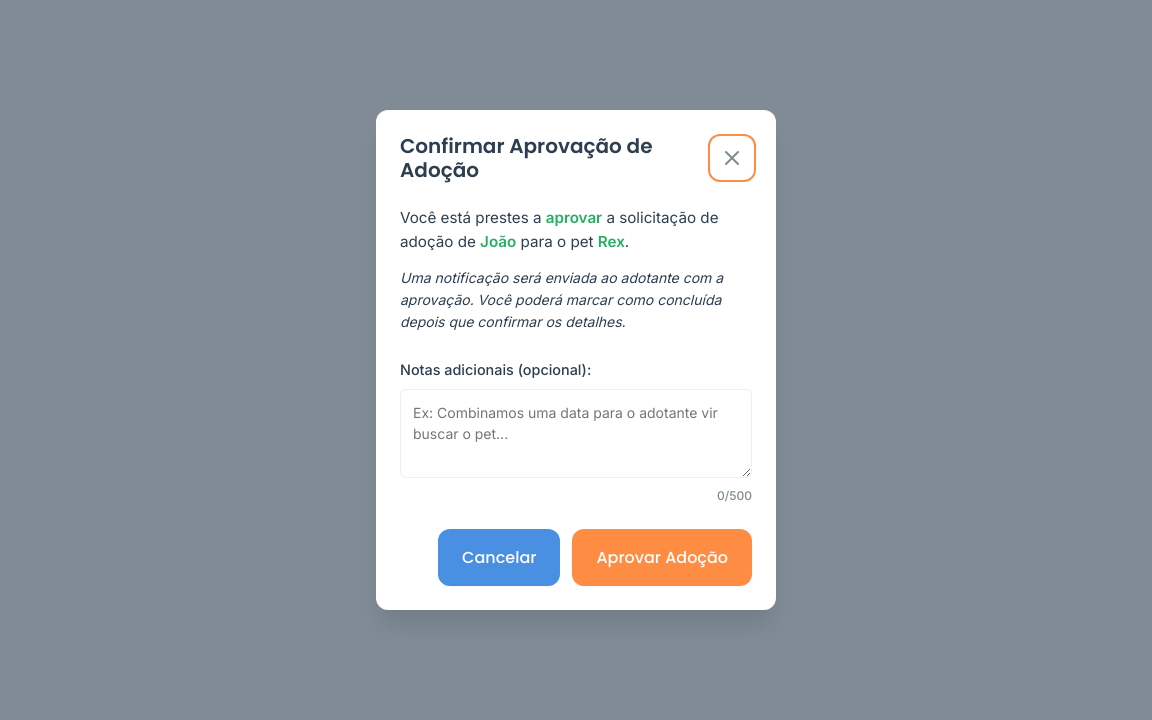
Test case: ApprovalModal Component › Textarea Character Limit › should update character count as user types
Type "Hello World" into the text box with placeholder "Ex: Combinamos uma data para o adotante vir buscar o pet...".
click(576, 433); type("Hello World")  # box [400,389,752,478]
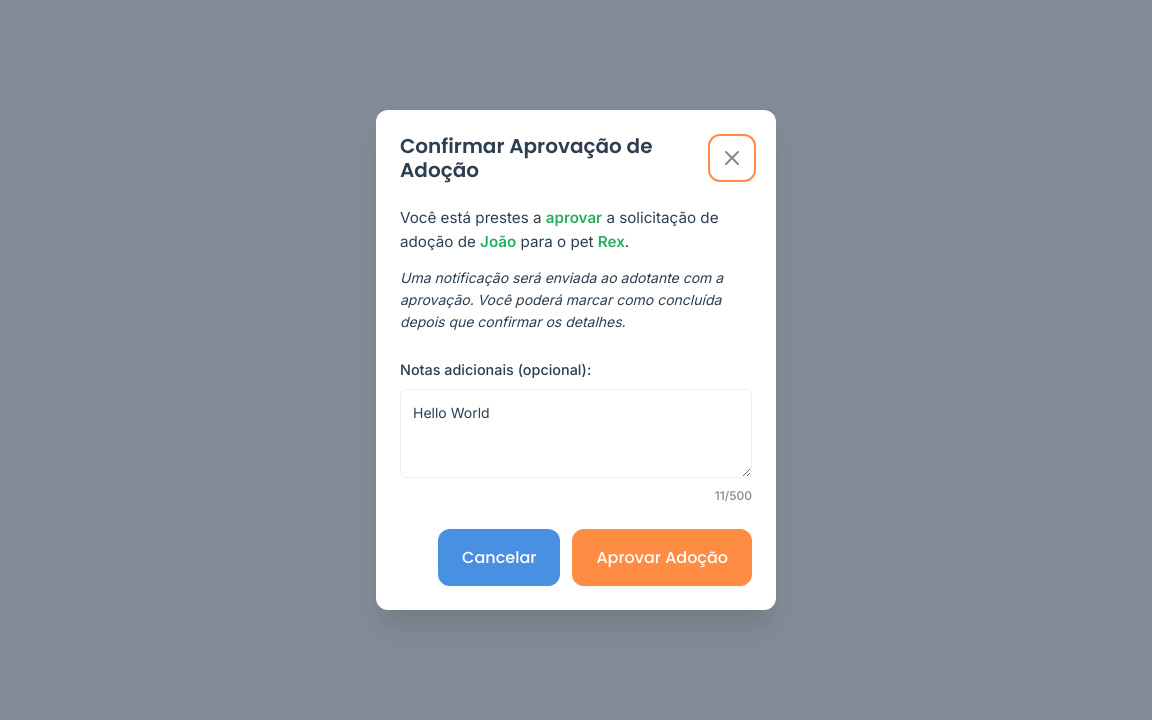
Now the text "11/500" is shown, box [715,488,752,503]
